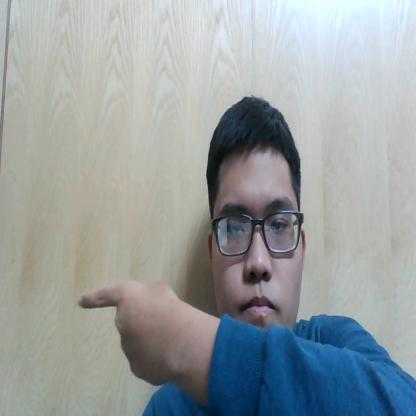right: (71, 266, 191, 390)
